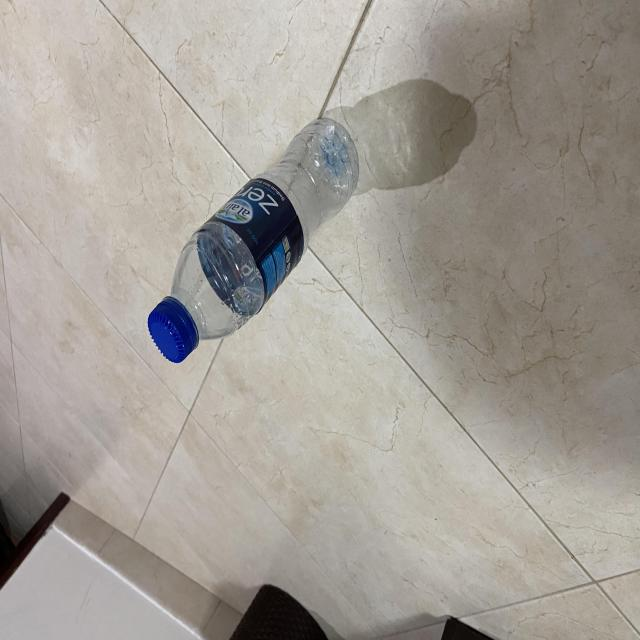plastic: (144, 113, 362, 368)
